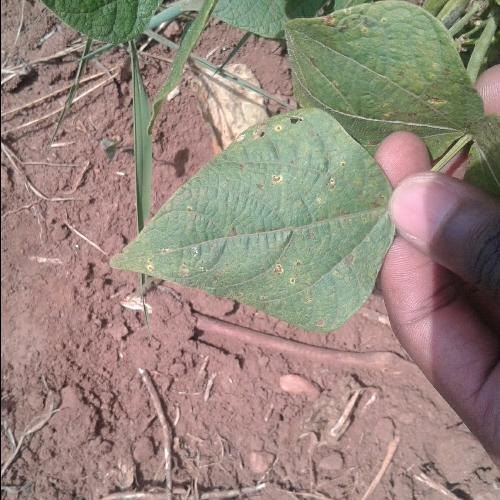embun tepung: (226, 106, 350, 198), (257, 242, 329, 299)
